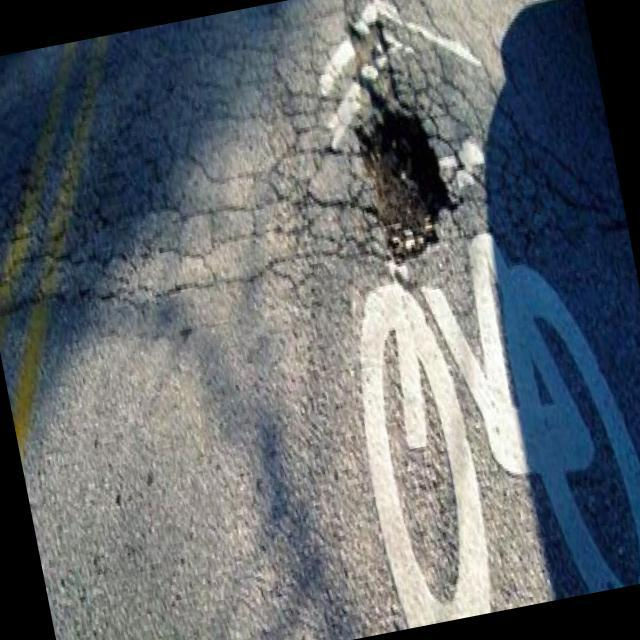Pothole: (346, 80, 471, 276)
